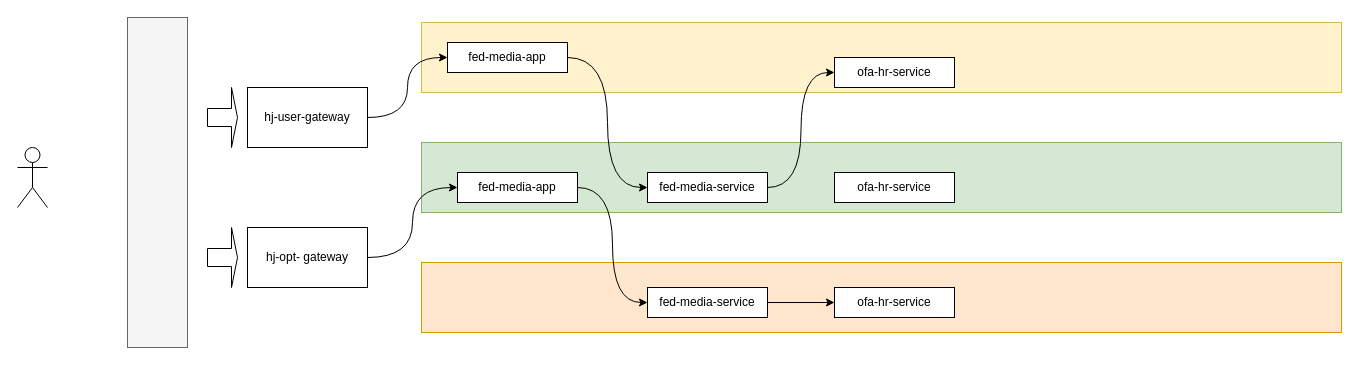
The diagram is 1359 pixels wide and 365 high, and some of its shapes have lost their labels. Here are the shapes that lost their labels. From the top down, the box of each, then its label:
(420, 22, 1342, 92): 开发环境 dev-R1
(16, 146, 48, 208): 用户
(126, 16, 188, 348): nginx
(420, 142, 1342, 212): 稳定环境
(420, 262, 1342, 332): 开发环境 dev-R2
